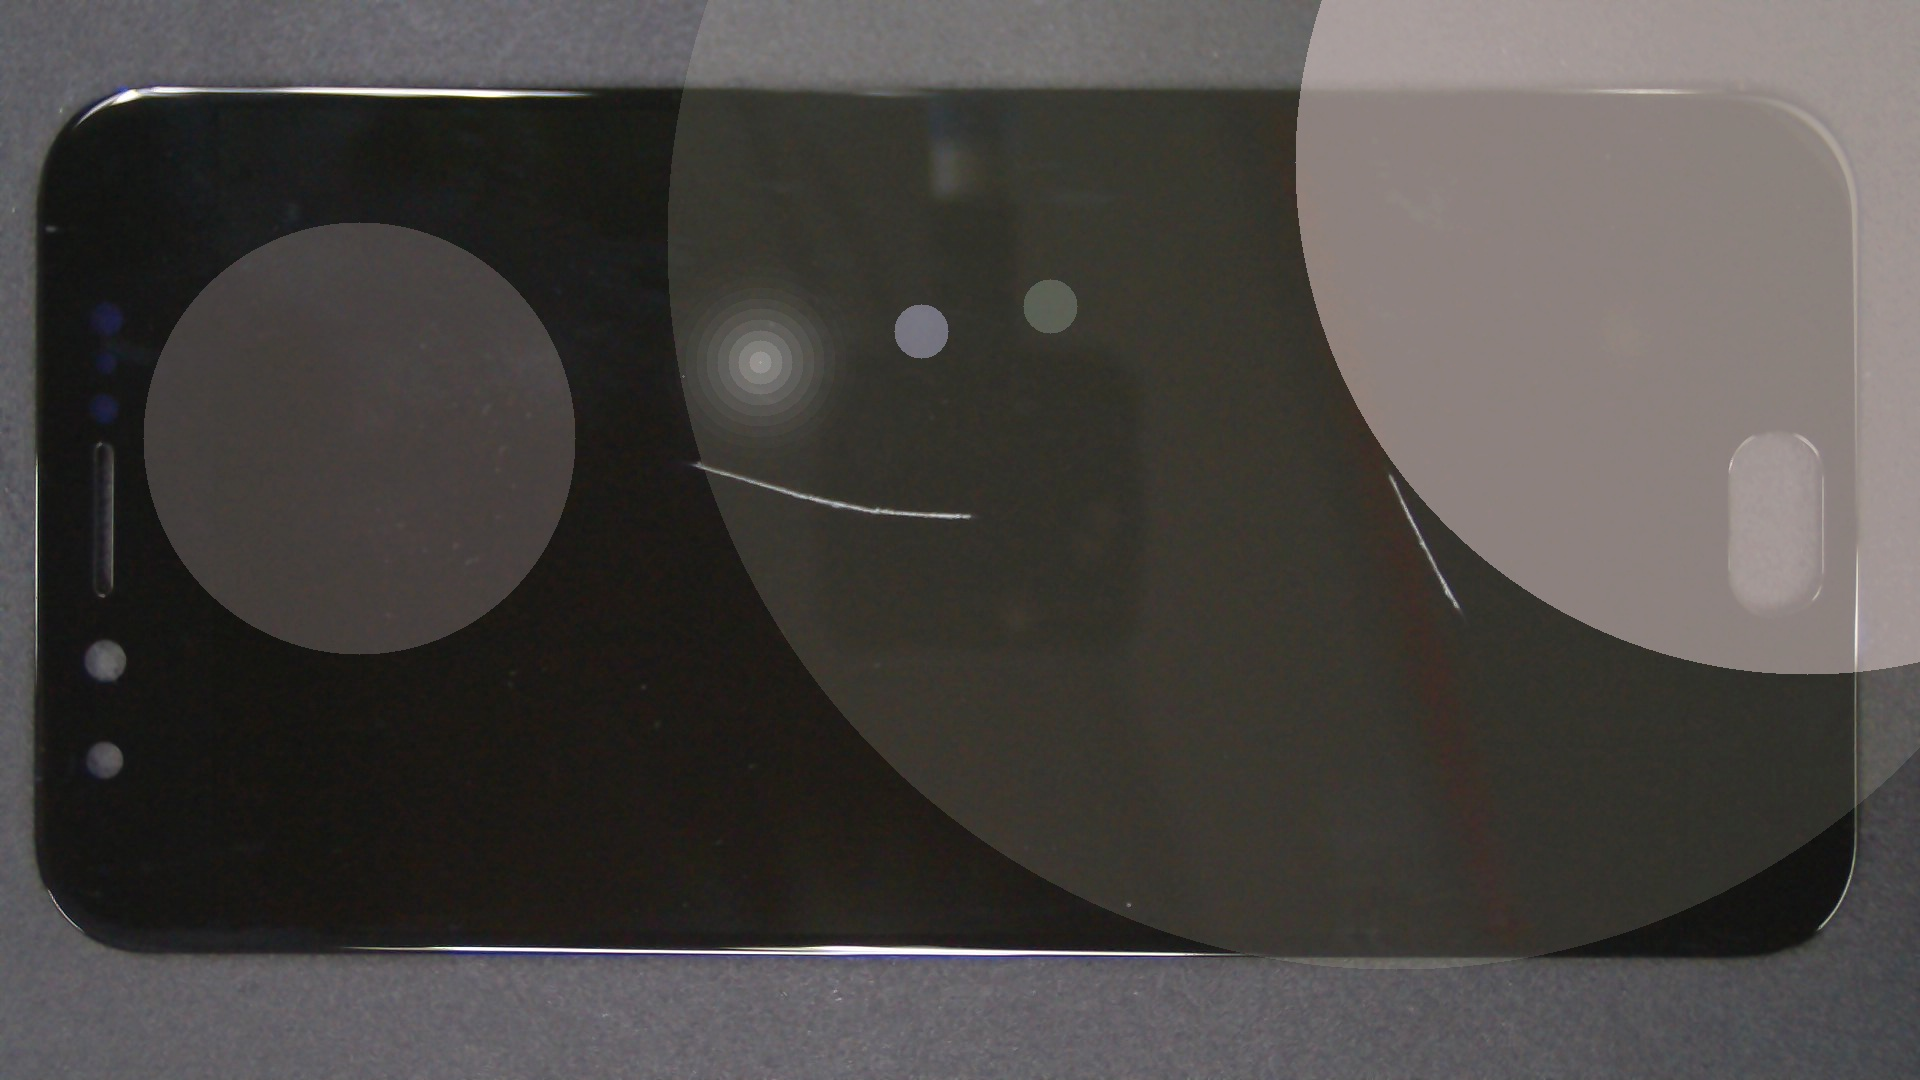oil: (695, 236, 1920, 712), (348, 229, 1044, 692)
